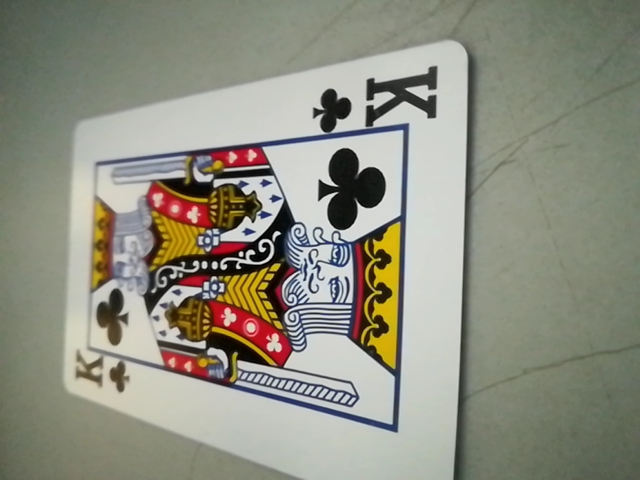mh k: (308, 62, 450, 138), (67, 347, 131, 397)
